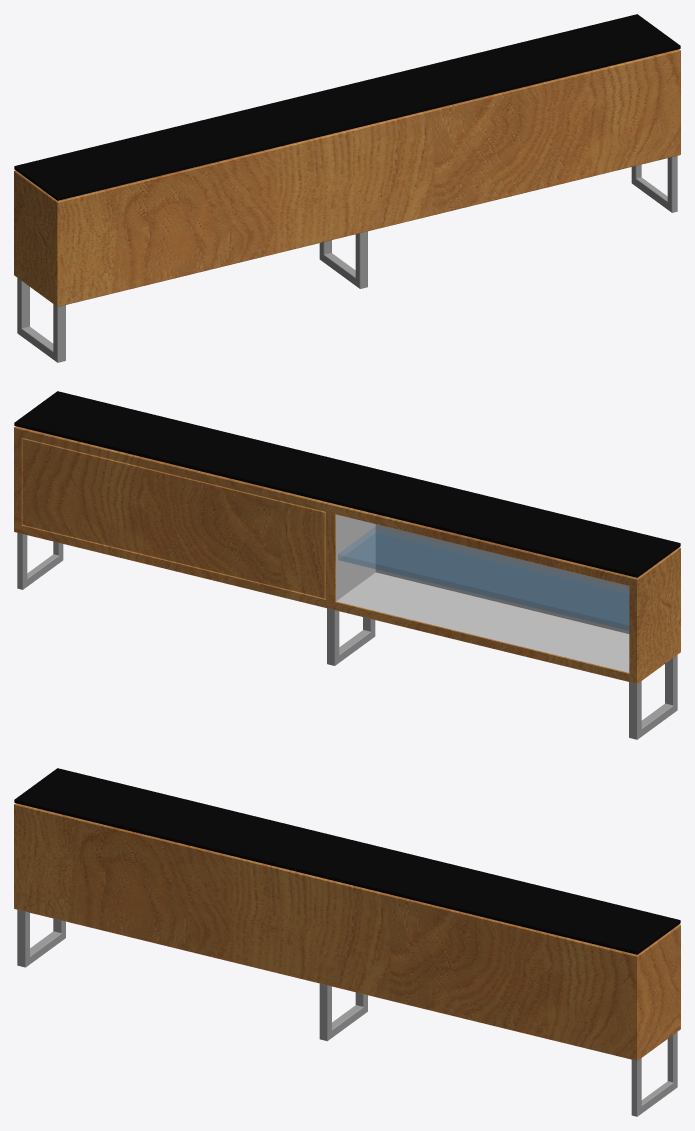
File: LivingFurniture2.obj
3 renders of one model, top to bottom at view 1: azimuth 30°, elevation 25°; view 2: azimuth 150°, elevation 25°; view 3: azimuth 330°, elevation 25°, orthographic.
Visible parts, largest first — view 1: szafka_rtv_Cube_12, szafka_rtv_Cube_2, szafka_rtv_Cube_3; view 2: szafka_rtv_Cube_12, szafka_rtv_Cube_2, szafka_rtv_Cube_1, szafka_rtv_Cube_11, szafka_rtv_Cube_3; view 3: szafka_rtv_Cube_12, szafka_rtv_Cube_2, szafka_rtv_Cube_3.
Part boxes in pixels (x1,y1,x2,y2): szafka_rtv_Cube_12: [14, 49, 680, 306]; szafka_rtv_Cube_2: [14, 14, 680, 200]; szafka_rtv_Cube_3: [17, 156, 677, 362]; szafka_rtv_Cube_12: [14, 426, 680, 683]; szafka_rtv_Cube_2: [14, 391, 680, 577]; szafka_rtv_Cube_1: [336, 514, 629, 672]; szafka_rtv_Cube_11: [338, 527, 628, 630]; szafka_rtv_Cube_3: [17, 533, 677, 739]; szafka_rtv_Cube_12: [14, 803, 680, 1060]; szafka_rtv_Cube_2: [14, 768, 680, 954]; szafka_rtv_Cube_3: [17, 910, 677, 1116].
Size of the model in its own units: 252 by 64.3 by 30.5.
5 materials, 1 textured.
